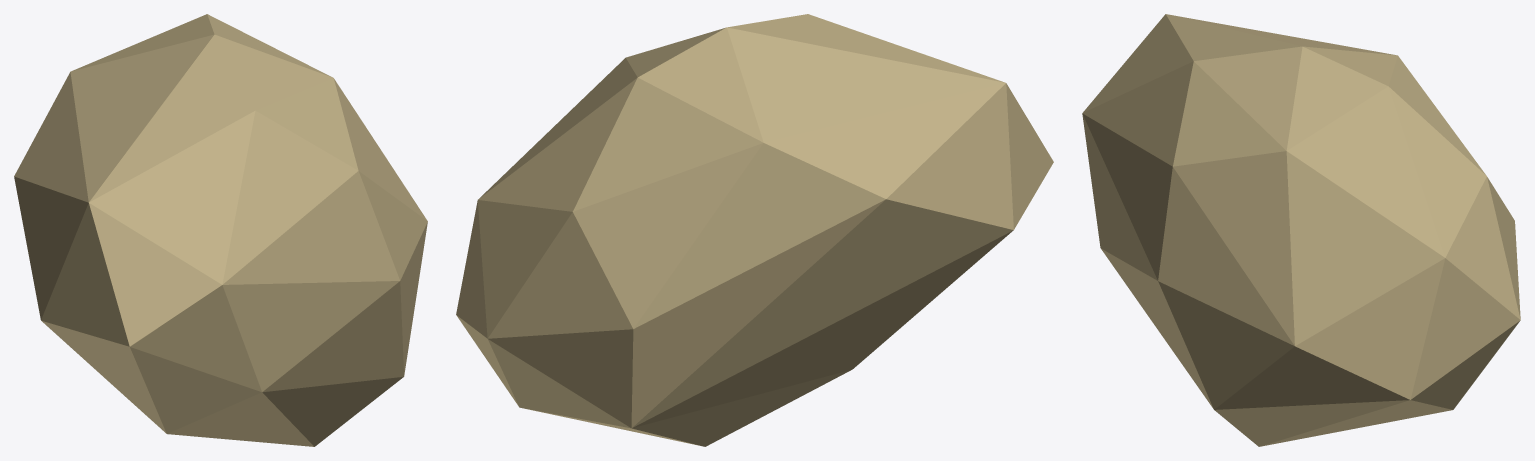
File: LP_Rock004.fbx
3 views of the same model, side by side, from view 1: azimuth 30°, elevation 25°; view 2: azimuth 150°, elevation 25°; view 3: azimuth 270°, elevation 25° (orthographic). The views are drawn at different scales.
Visible parts, largest first — view 1: Rock004; view 2: Rock004; view 3: Rock004.
Part boxes in pixels (bbox=[...]): Rock004: bbox=[14, 14, 427, 446]; Rock004: bbox=[456, 14, 1053, 446]; Rock004: bbox=[1082, 14, 1520, 446].
Bounding box in the file's own units: 63.16 × 56.55 × 61.11.
